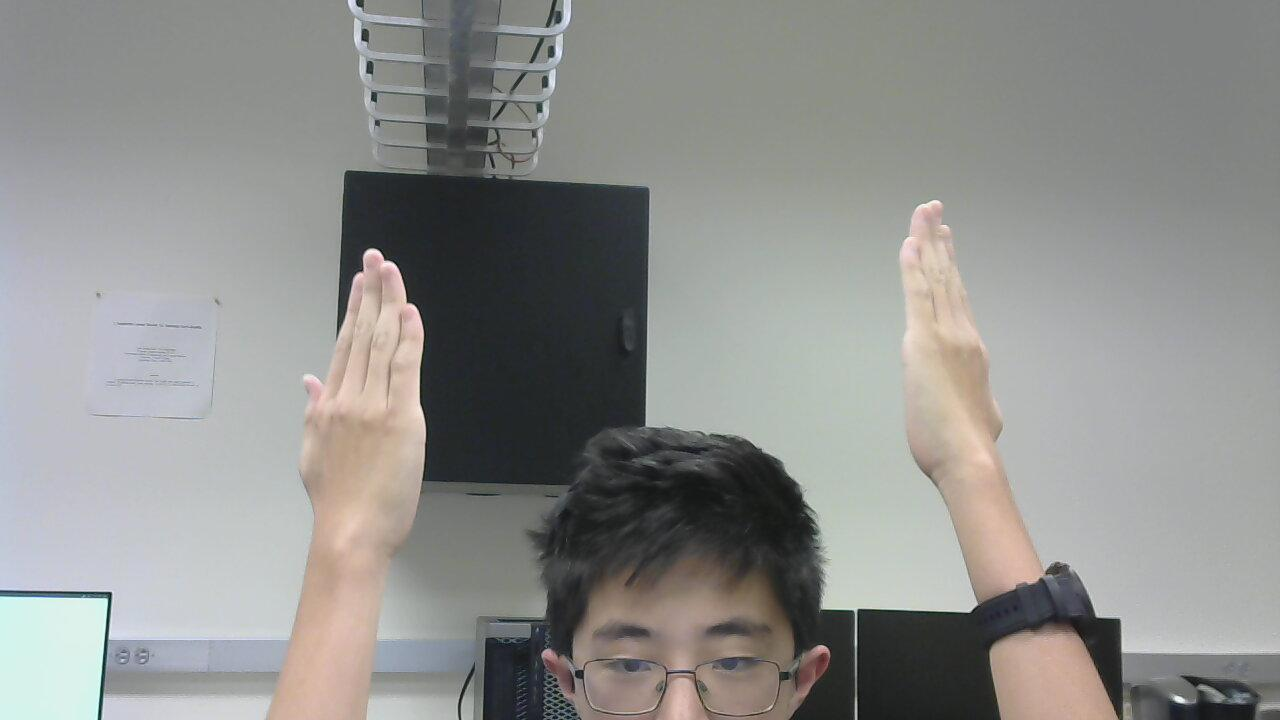hands: (297, 240, 452, 559), (899, 195, 1045, 501)
